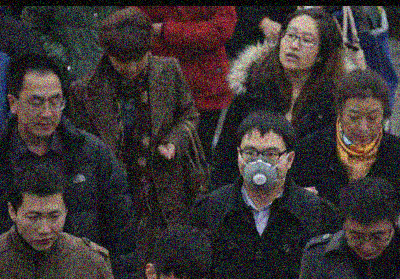with_mask: (236, 141, 287, 191)
without_mask: (17, 203, 65, 250), (17, 87, 63, 136), (277, 22, 319, 73), (341, 222, 395, 261), (339, 103, 382, 144), (112, 52, 147, 78)
